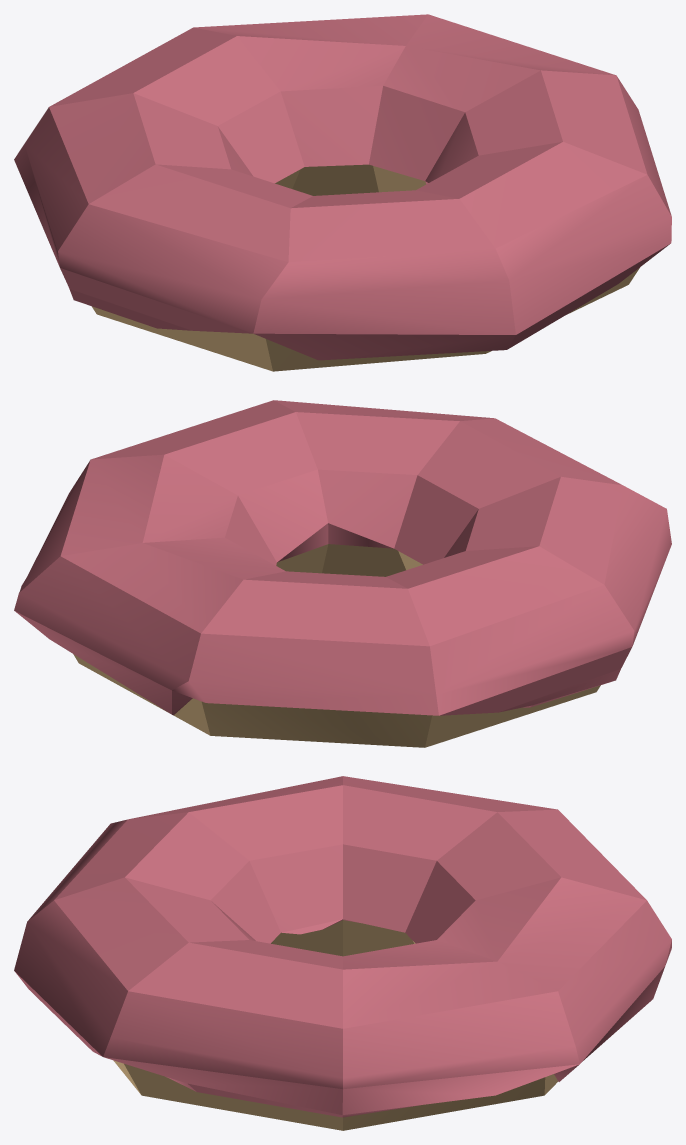
The model's file is glaced_donut.fbx.
The picture shows the model from 3 angles, top to bottom: view 1: azimuth 30°, elevation 25°; view 2: azimuth 150°, elevation 25°; view 3: azimuth 270°, elevation 25°; orthographic projection. The views are drawn at different scales.
Visible parts, largest first — view 1: Glaced_Donut; view 2: Glaced_Donut; view 3: Glaced_Donut.
Boxes of the visible parts, x1,y1,x2,y2 form: Glaced_Donut: (14, 14, 671, 371); Glaced_Donut: (14, 400, 671, 747); Glaced_Donut: (14, 776, 671, 1130).
Size of the model in its own units: 2.89 by 0.7508 by 2.9.
